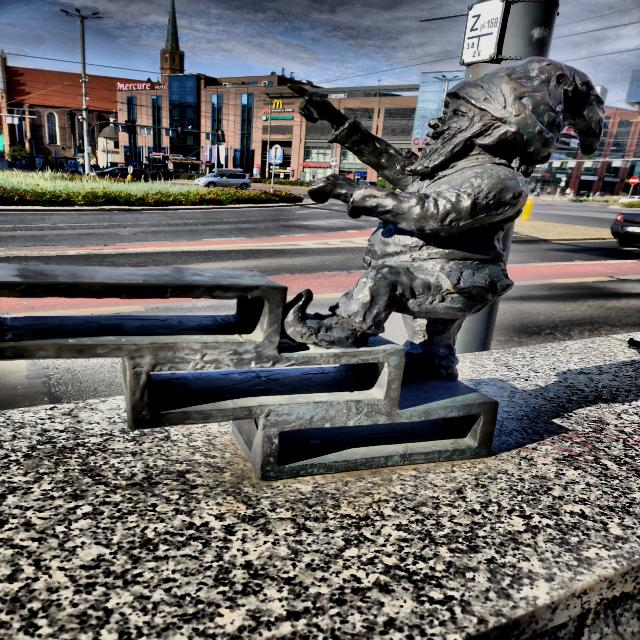Elementek: (2, 60, 600, 479)
